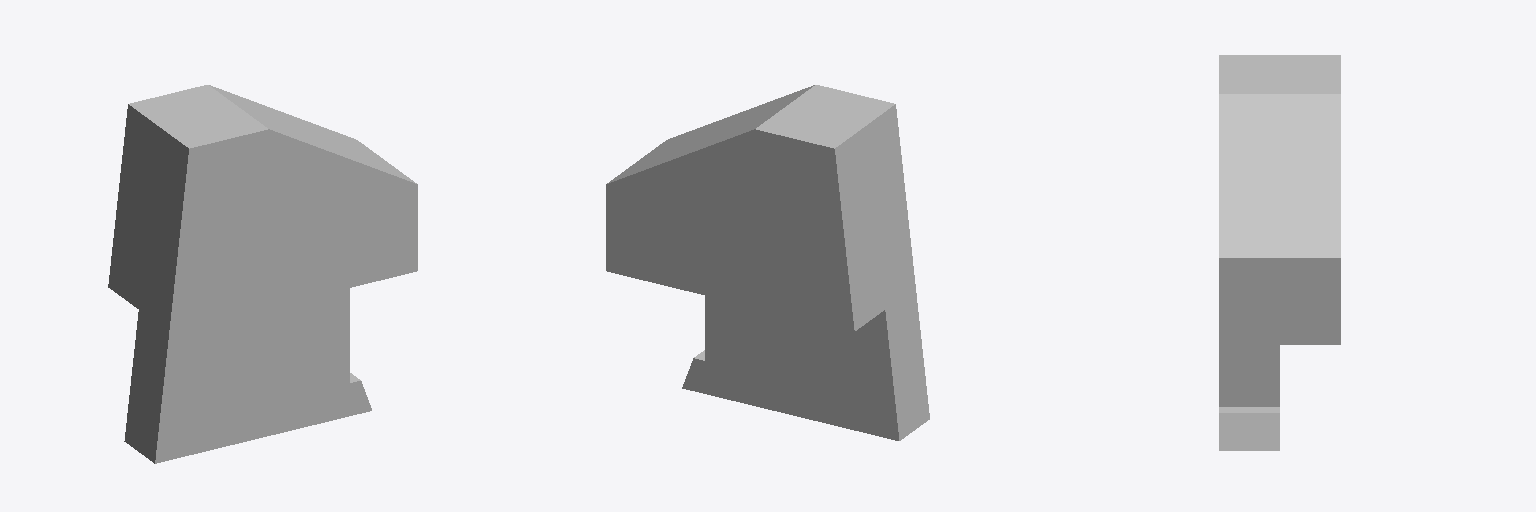
The model's file is spaceInterior_075.obj.
3 renders of one model, left to right at view 1: azimuth 30°, elevation 25°; view 2: azimuth 150°, elevation 25°; view 3: azimuth 270°, elevation 25°, orthographic.
Parts seen in each view (by area): view 1: Mesh1 Group1 Model; view 2: Mesh1 Group1 Model; view 3: Mesh1 Group1 Model.
Boxes of the visible parts, box(x1,y1,x2,y2) form: Mesh1 Group1 Model: box(108, 85, 417, 463); Mesh1 Group1 Model: box(606, 85, 929, 440); Mesh1 Group1 Model: box(1219, 55, 1340, 450).
Size of the model in its own units: 0.298 by 0.3321 by 0.12.